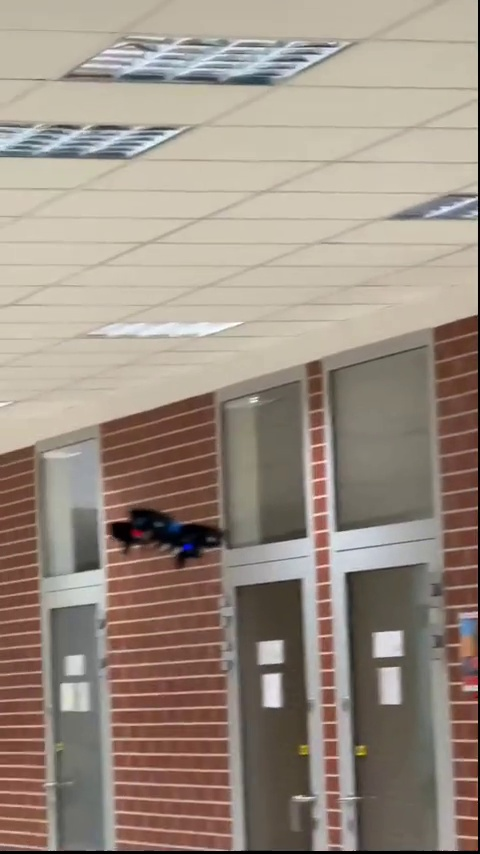drone: (107, 507, 226, 570)
